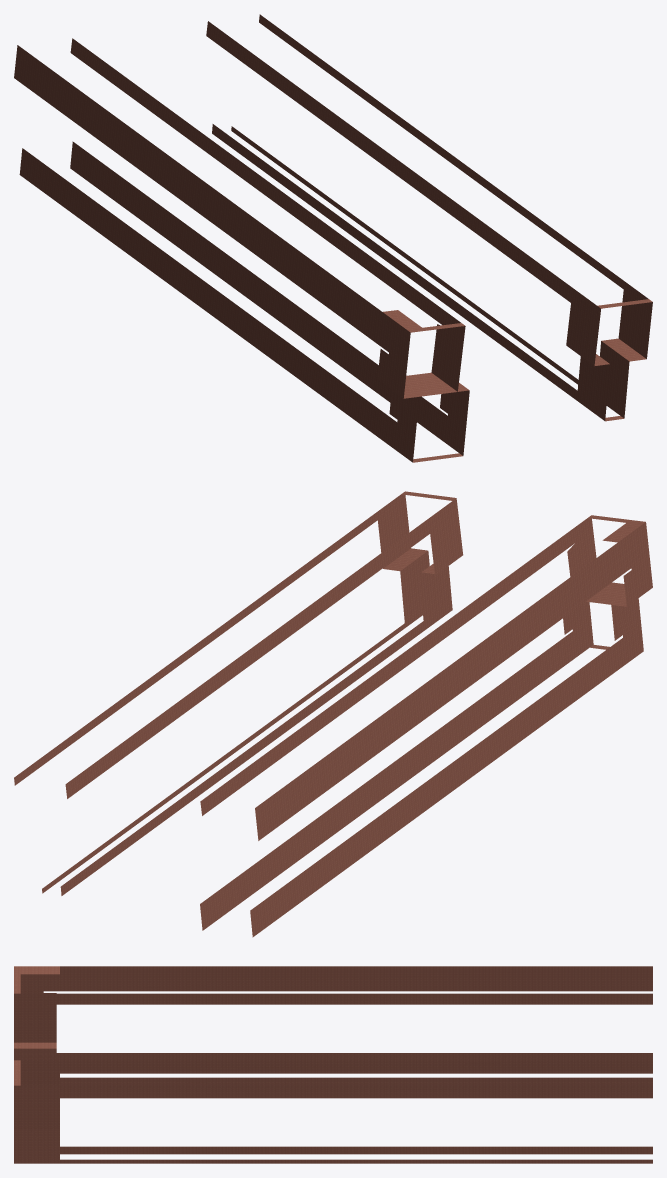
The model's file is data18.obj.
3 views of the same model, one above another, from view 1: azimuth 30°, elevation 25°; view 2: azimuth 150°, elevation 25°; view 3: azimuth 270°, elevation 25° (orthographic). The views are drawn at different scales.
Visible parts, largest first — view 1: data18; view 2: data18; view 3: data18.
Boxes of the visible parts, box(x1,y1,x2,y2) form: data18: box(14, 14, 652, 462); data18: box(14, 491, 652, 937); data18: box(14, 966, 652, 1163).
Size of the model in its own units: 35.49 by 18.81 by 97.
Materials: 1 (1 with a texture image).
